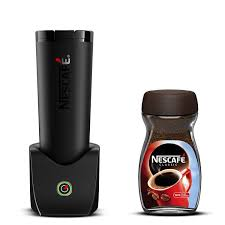nescafe-classic/gold-small: (141, 87, 200, 214)
